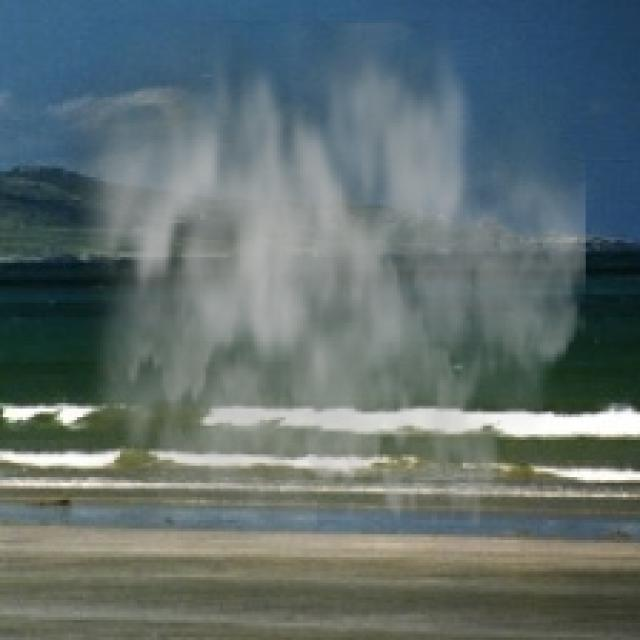Smoke: (48, 20, 586, 583)
